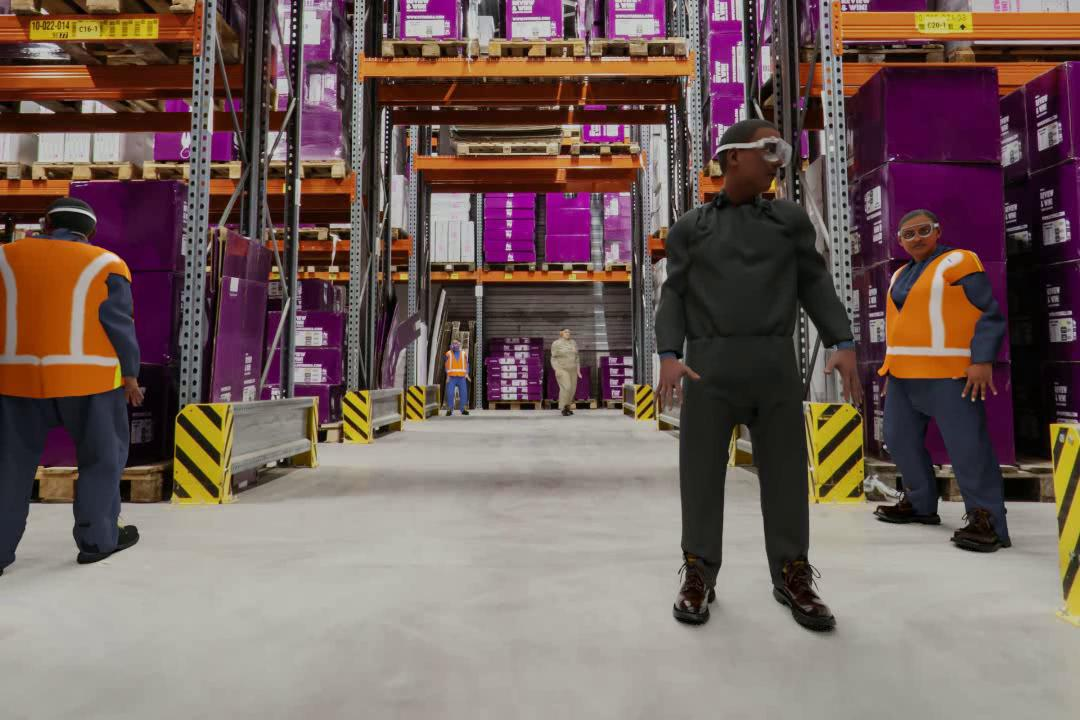Goggles: (711, 135, 797, 170), (891, 220, 941, 241), (563, 331, 570, 334)
Jacket: (0, 232, 116, 394), (879, 252, 972, 381), (447, 349, 467, 376)
Shoes: (772, 563, 839, 633), (950, 505, 1018, 556), (76, 514, 142, 566), (670, 559, 719, 628), (871, 488, 944, 527), (444, 409, 453, 418), (561, 409, 569, 417), (462, 409, 469, 417), (570, 407, 574, 415)
